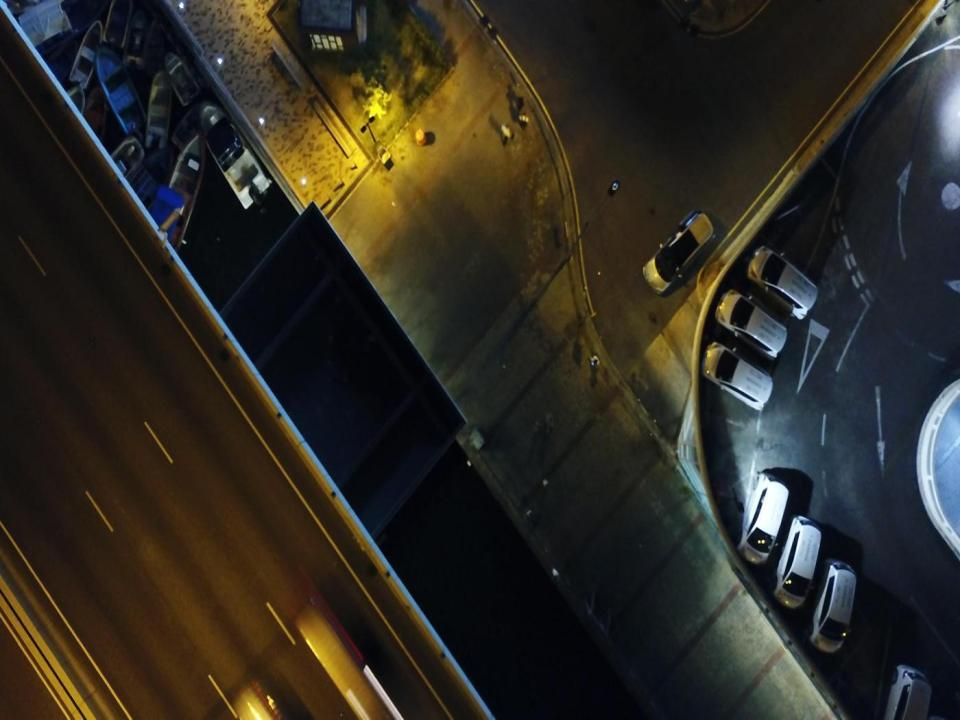car: (298, 599, 397, 719), (642, 209, 714, 290), (747, 246, 819, 320), (735, 470, 790, 566), (715, 289, 787, 360), (701, 340, 773, 410), (807, 557, 857, 655), (772, 514, 822, 610), (876, 664, 932, 719)
